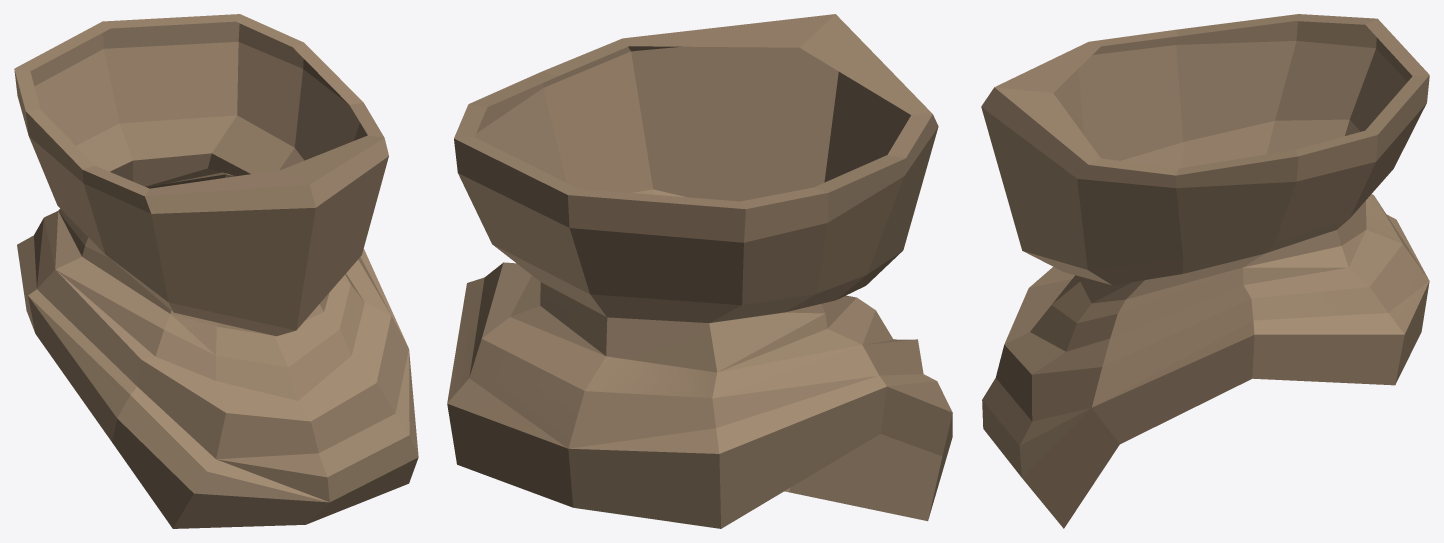
File: Balaclava_02_SM.FBX
3 renders of one model, left to right at view 1: azimuth 30°, elevation 25°; view 2: azimuth 150°, elevation 25°; view 3: azimuth 270°, elevation 25°, orthographic. The views are drawn at different scales.
Visible parts, largest first — view 1: Balaclava_02_SM; view 2: Balaclava_02_SM; view 3: Balaclava_02_SM.
Part boxes in pixels (x1,y1,x2,y2): Balaclava_02_SM: (14,14,418,528); Balaclava_02_SM: (447,14,952,528); Balaclava_02_SM: (981,14,1429,528).
Size of what is drawn, in the model's own units: 22.59 by 25.92 by 24.84.
